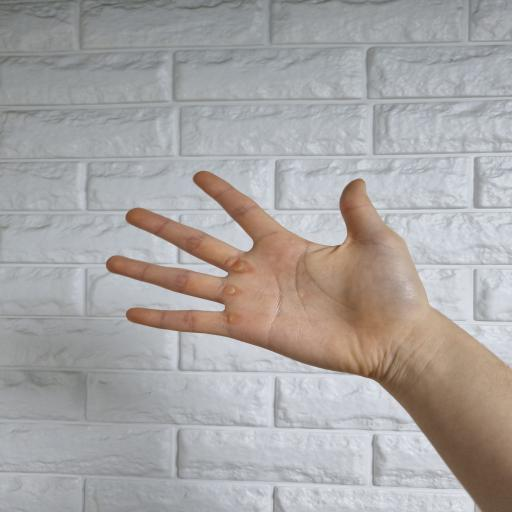Paper: (106, 170, 432, 384)
